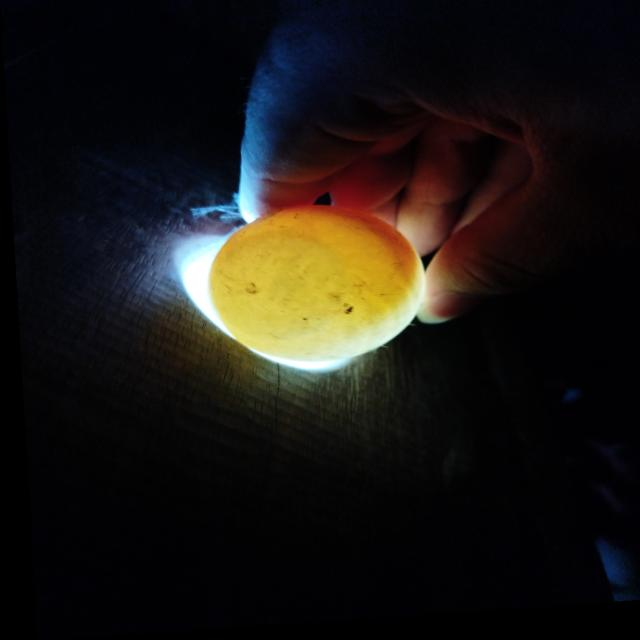Camara de Ar: (204, 239, 348, 342)
